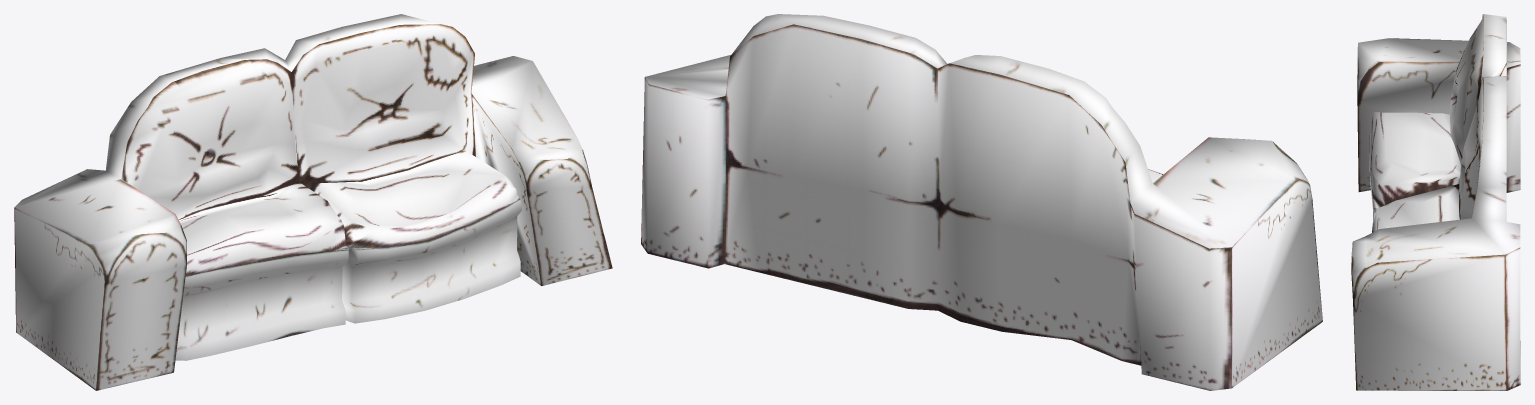
The model's file is Couch.fbx.
3 views of the same model, side by side, from view 1: azimuth 30°, elevation 25°; view 2: azimuth 150°, elevation 25°; view 3: azimuth 270°, elevation 25° (orthographic). The views are drawn at different scales.
Parts seen in each view (by area): view 1: Couch; view 2: Couch; view 3: Couch.
Part boxes in pixels (x1,y1,x2,y2): Couch: (14, 14, 612, 390); Couch: (641, 14, 1322, 390); Couch: (1351, 14, 1520, 390).
Size of the model in its own units: 289 by 126 by 88.21.
Materials: 1 (1 with a texture image).
